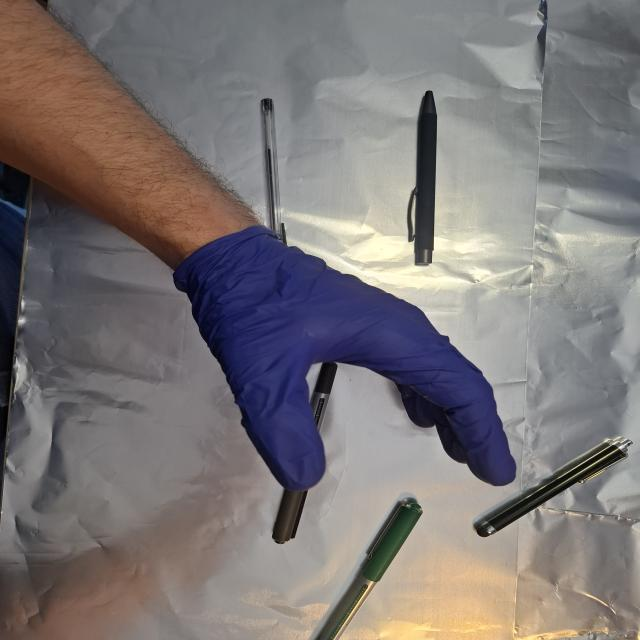glove_on: (172, 220, 521, 494)
